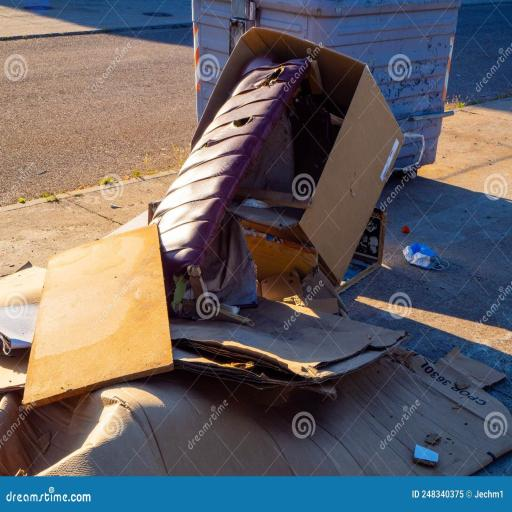Contenedor_Desbordado: (0, 29, 512, 476)
